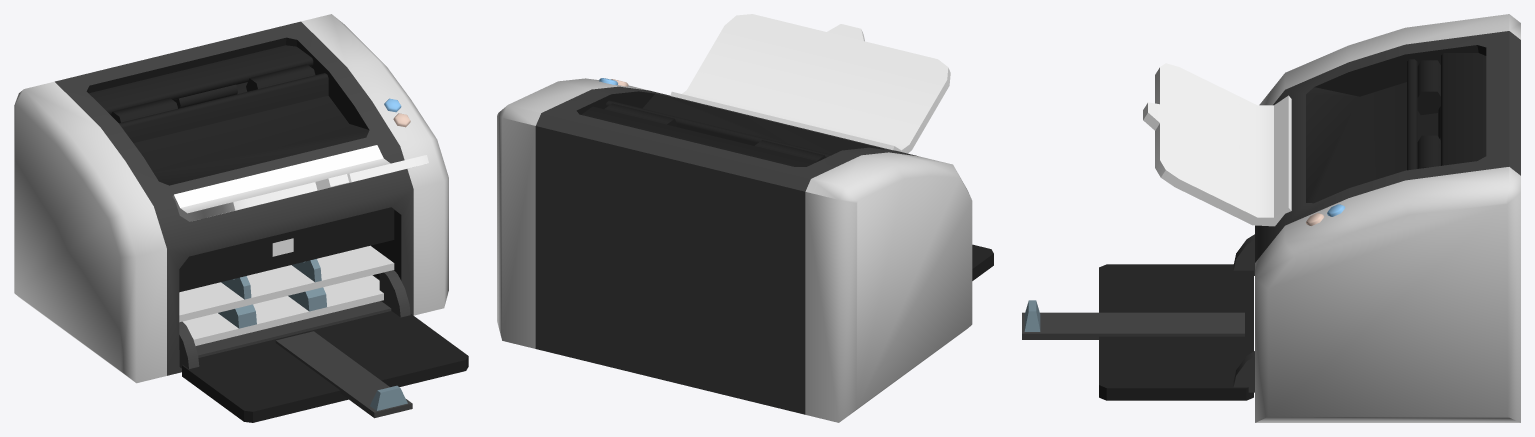
File: electronics_003.fbx
The picture shows the model from 3 angles, left to right: view 1: azimuth 30°, elevation 25°; view 2: azimuth 150°, elevation 25°; view 3: azimuth 270°, elevation 25°; orthographic projection. The views are drawn at different scales.
Parts seen in each view (by area): view 1: electronics_003; view 2: electronics_003; view 3: electronics_003.
Part boxes in pixels (bbox=[...]): electronics_003: bbox=[14, 14, 468, 422]; electronics_003: bbox=[497, 14, 993, 422]; electronics_003: bbox=[1022, 14, 1520, 422].
Bounding box in the file's own units: 69 × 80.29 × 42.63.
